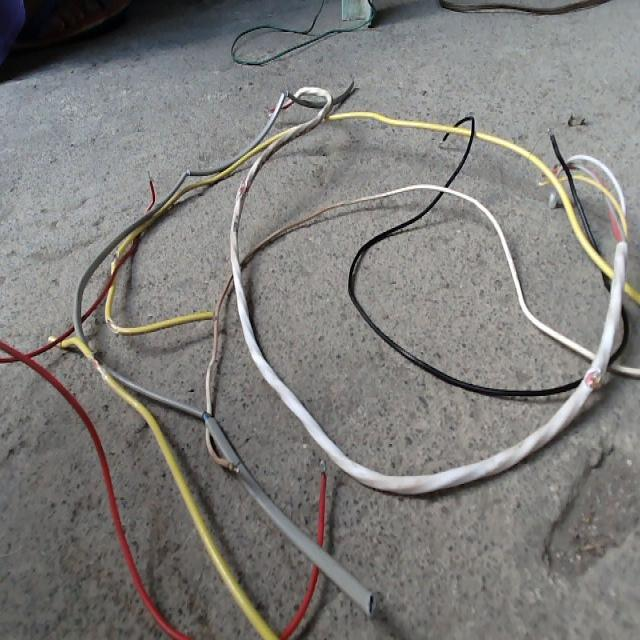-: (581, 365, 601, 391), (104, 313, 120, 336), (235, 176, 249, 197), (89, 351, 102, 373)
